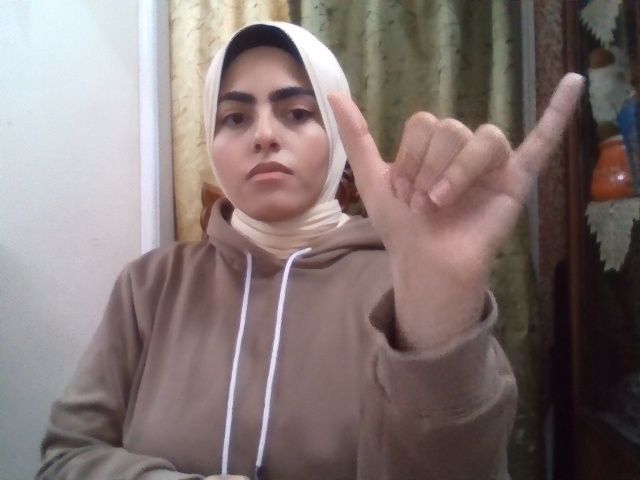Y: (326, 72, 584, 291)
